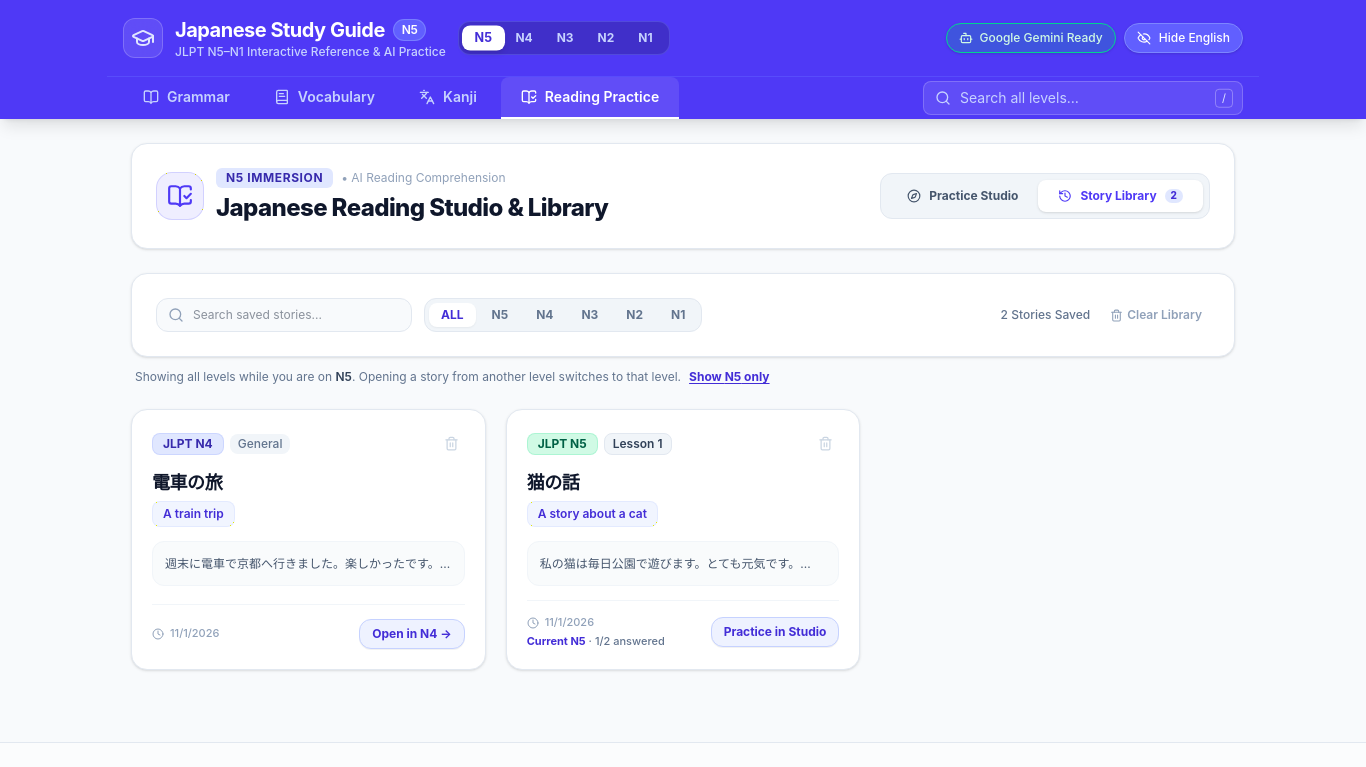
Scenario: Story Library flow › opening another level's story switches the header level
Click the button "Open in N4 →" at (412, 634), box x1=359 y1=619 x2=465 y2=649
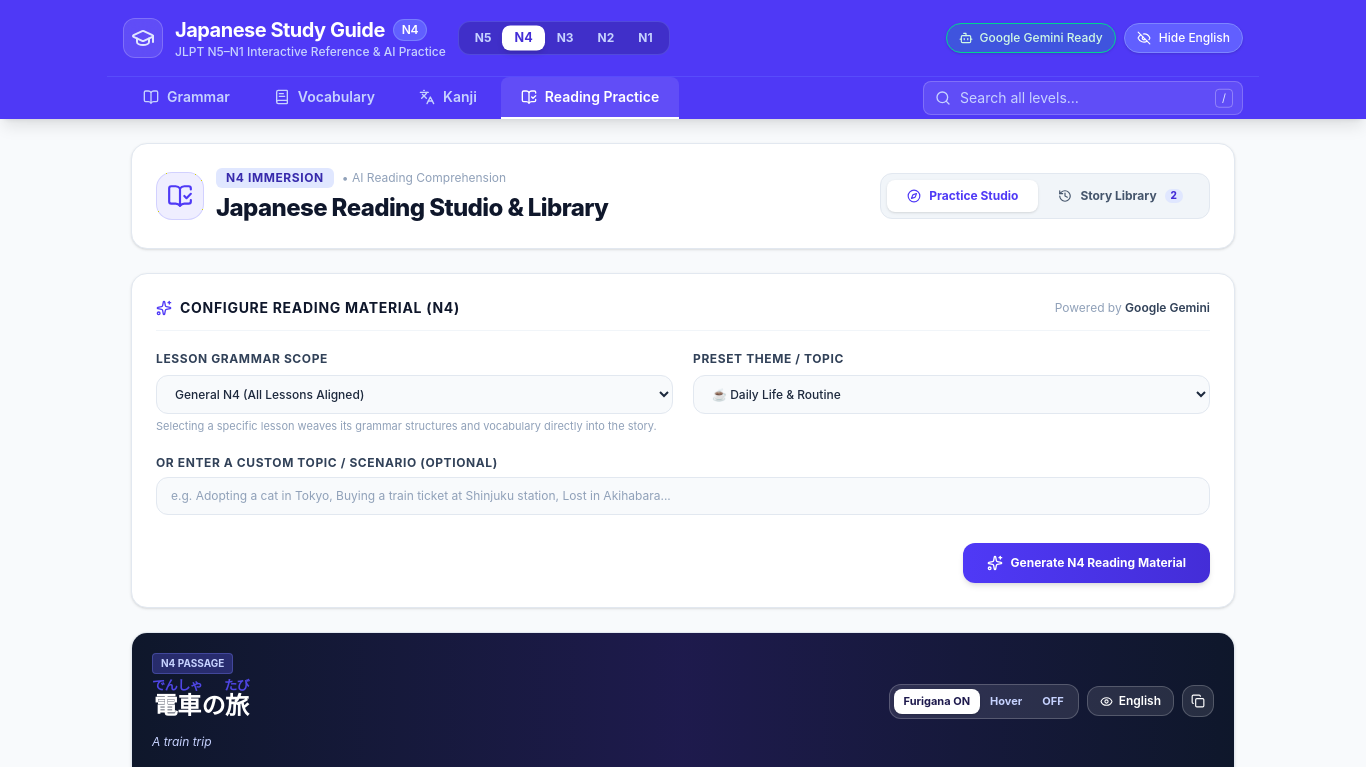
Now the text "N4 Passage" is shown, box x1=152 y1=652 x2=233 y2=674
